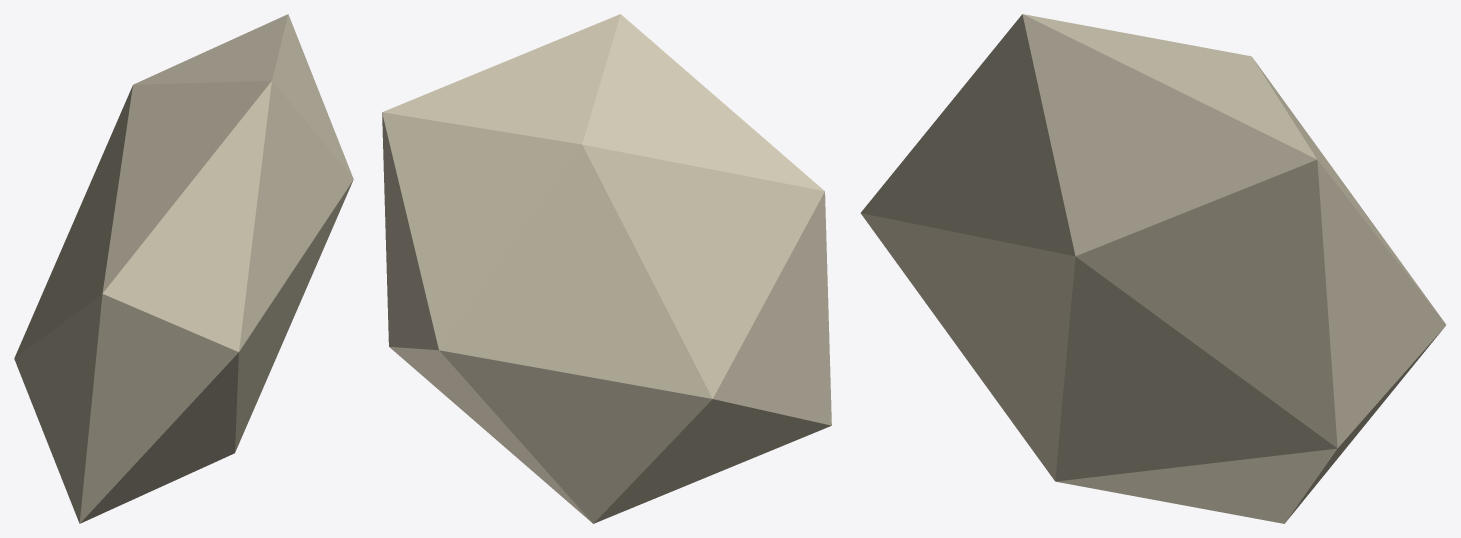
The model's file is gore_13.glb.
The picture shows the model from 3 angles, left to right: view 1: azimuth 30°, elevation 25°; view 2: azimuth 150°, elevation 25°; view 3: azimuth 270°, elevation 25°; orthographic projection. The views are drawn at different scales.
Visible parts, largest first — view 1: CHUNK; view 2: CHUNK; view 3: CHUNK.
Part boxes in pixels (box(x1,y1,x2,y2)): CHUNK: box(14, 14, 353, 523); CHUNK: box(382, 14, 831, 523); CHUNK: box(860, 14, 1446, 523).
Size of the model in its own units: 0.0687 by 0.0846 by 0.0807.
